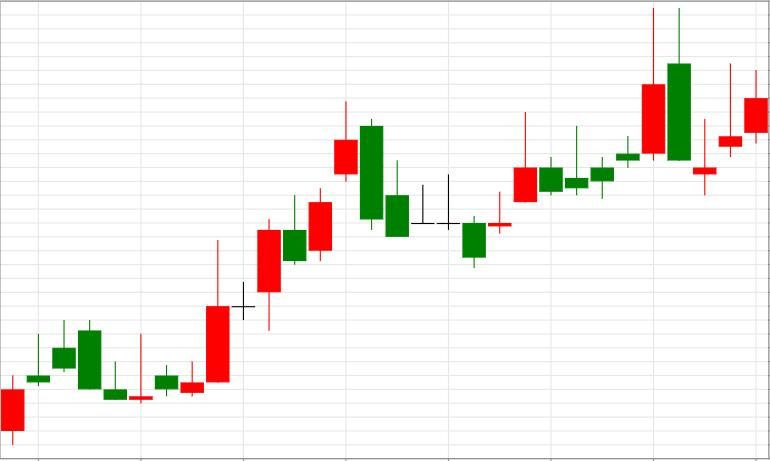bearish_engulfing_fall: (463, 9, 690, 268)
shooting_star_fall: (181, 102, 357, 397)
